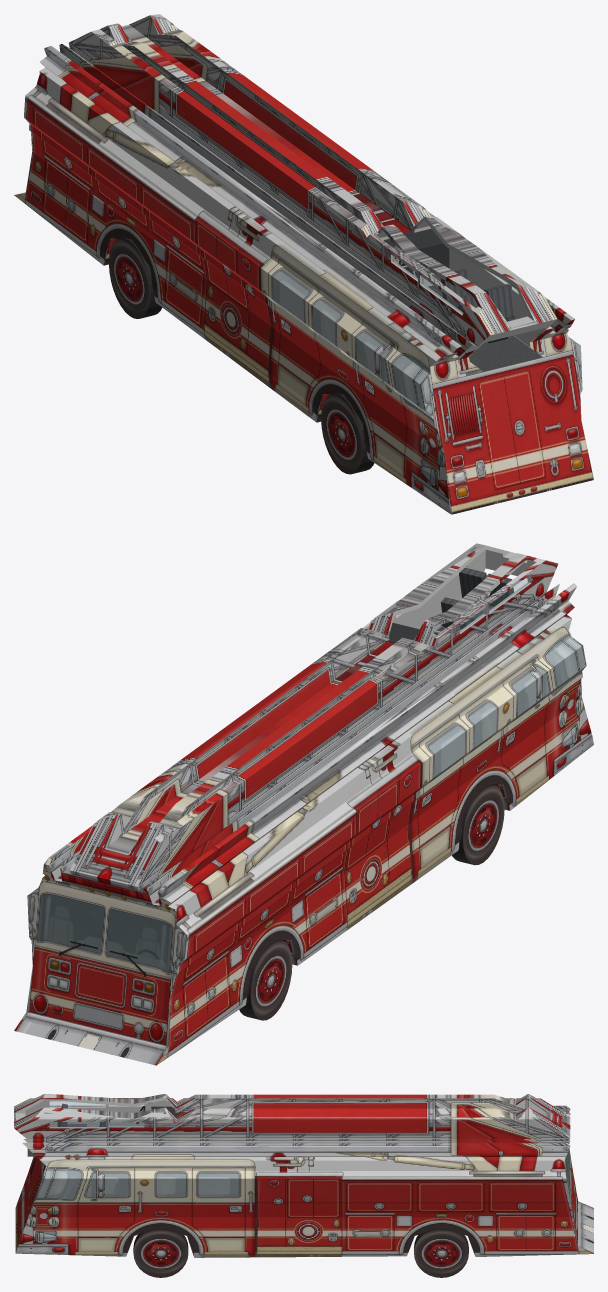
The model's file is ladder_truck.glb.
The picture shows the model from 3 angles, top to bottom: view 1: azimuth 30°, elevation 25°; view 2: azimuth 150°, elevation 25°; view 3: azimuth 270°, elevation 25°; orthographic projection. The views are drawn at different scales.
Visible parts, largest first — view 1: ladder_truck, ladder_truck_cabin, wheel_BL, wheel_FL; view 2: ladder_truck, wheel_FL, wheel_BL, ladder_truck_cabin; view 3: ladder_truck, wheel_BR, wheel_FR, ladder_truck_cabin.
Part boxes in pixels (<box>): ladder_truck: <box>14,14,593,514</box>; ladder_truck_cabin: <box>383,228,542,371</box>; wheel_BL: <box>321,393,374,474</box>; wheel_FL: <box>109,237,162,318</box>; ladder_truck: <box>14,543,593,1065</box>; wheel_FL: <box>239,939,292,1020</box>; wheel_BL: <box>452,783,504,865</box>; ladder_truck_cabin: <box>387,567,529,643</box>; ladder_truck: <box>14,1094,593,1257</box>; wheel_BR: <box>133,1226,188,1277</box>; wheel_FR: <box>414,1226,468,1277</box>; ladder_truck_cabin: <box>27,1101,177,1156</box>.
Bounding box in the file's own units: 2.52 × 3.48 × 11.98.
Materials: 11 (4 with a texture image).
